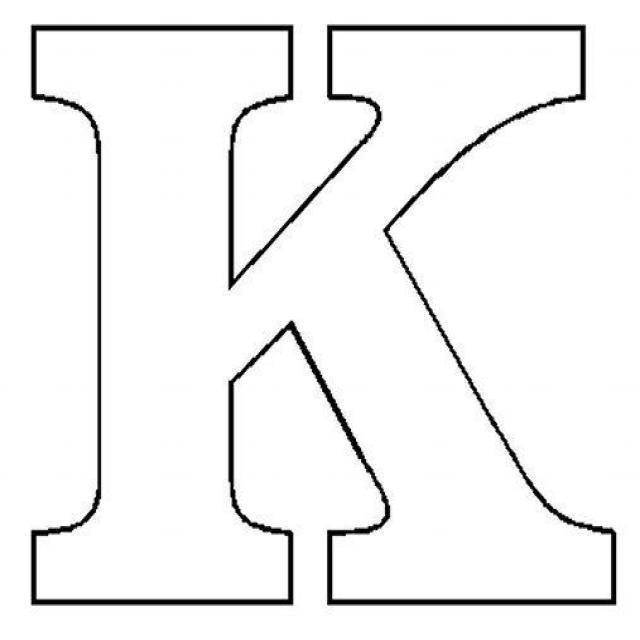K: (21, 7, 623, 623)
